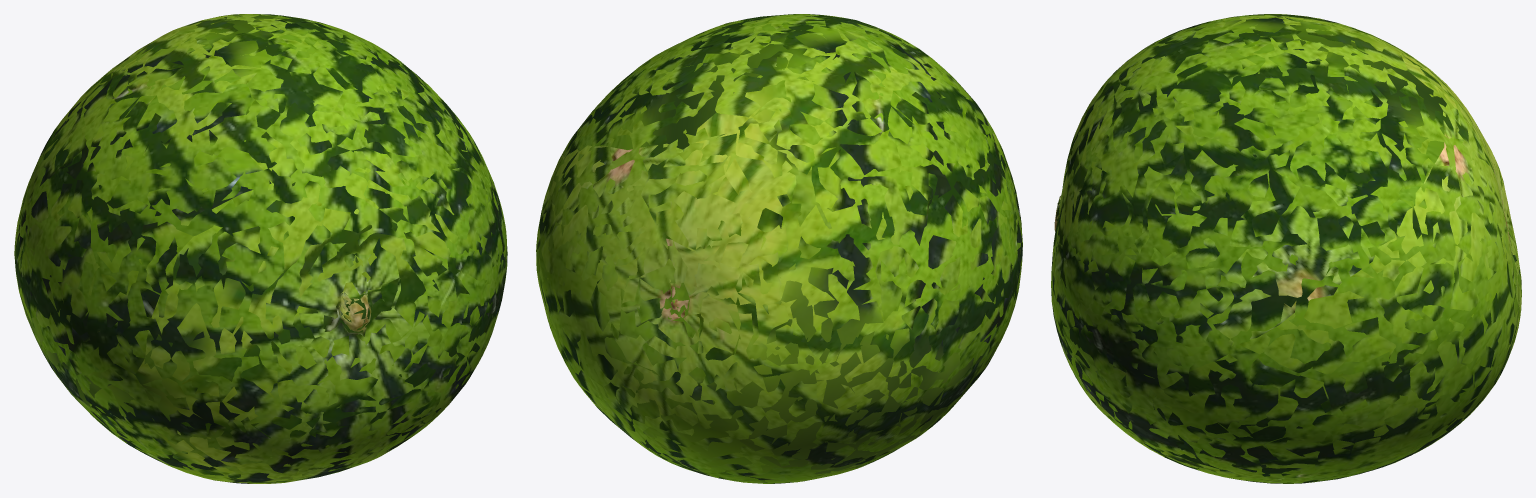
The model's file is melon.glb.
3 views of the same model, side by side, from view 1: azimuth 30°, elevation 25°; view 2: azimuth 150°, elevation 25°; view 3: azimuth 270°, elevation 25° (orthographic).
Parts seen in each view (by area): view 1: melon; view 2: melon; view 3: melon.
Boxes of the visible parts, left/top/right/bottom form: melon: left=14, top=14, right=507, bottom=483; melon: left=536, top=14, right=1022, bottom=483; melon: left=1051, top=14, right=1521, bottom=483.
Bounding box in the file's own units: 0.2463 × 0.2383 × 0.2409.
Materials: 1 (1 with a texture image).
